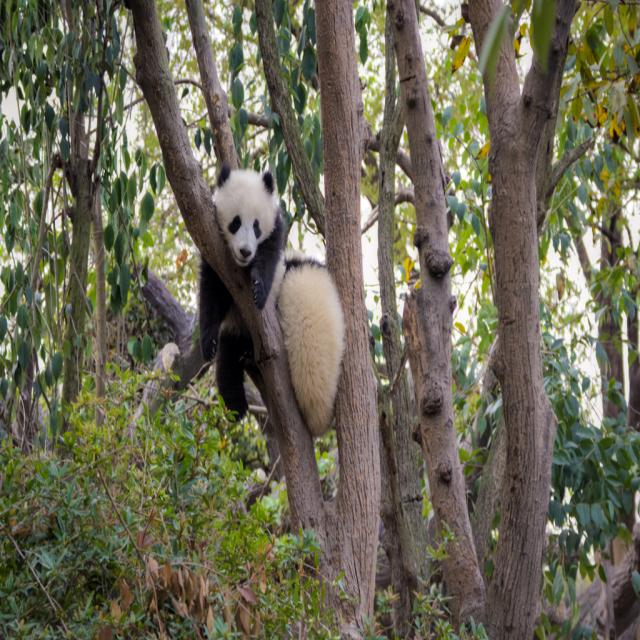panda: (189, 158, 349, 449)
